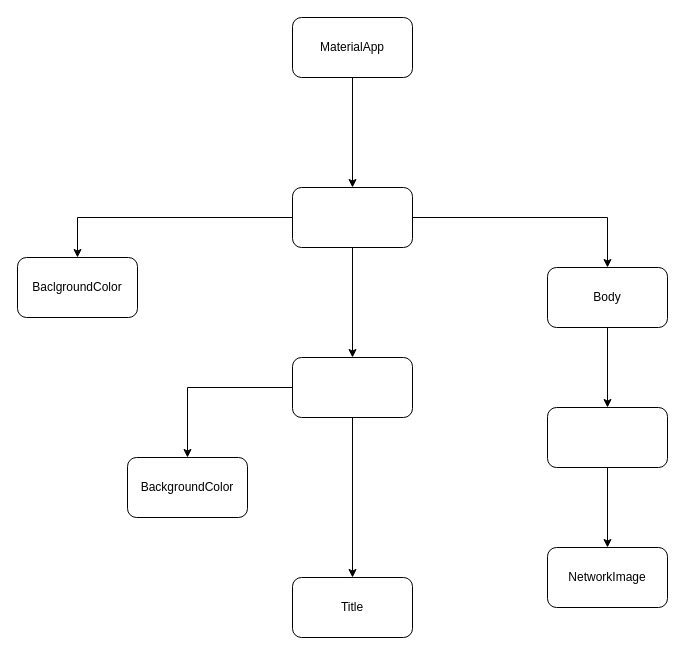
This 685x655 diagram has some shape labels left out. Each missing label, with the centre of its shape:
AppBar: point 352,387
Image: point 607,437
Scaffold: point 352,217
